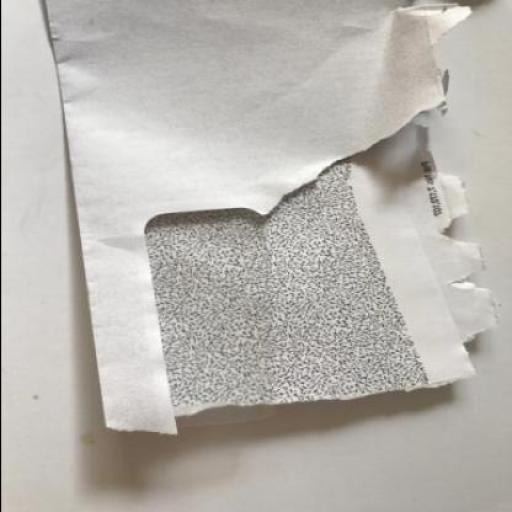paper: (38, 0, 494, 436)
